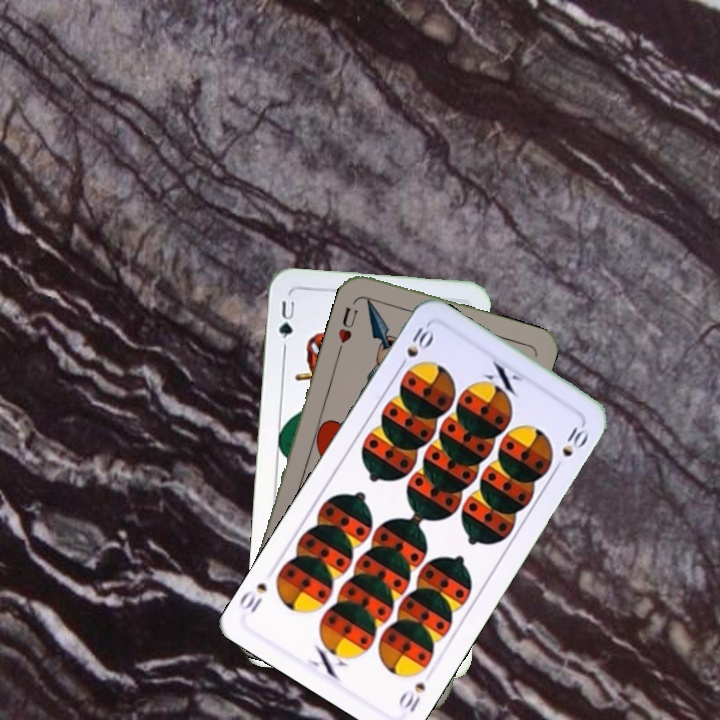GU: (275, 295, 298, 351)
HU: (334, 303, 361, 354)
S10: (394, 320, 438, 373), (394, 678, 428, 715)
